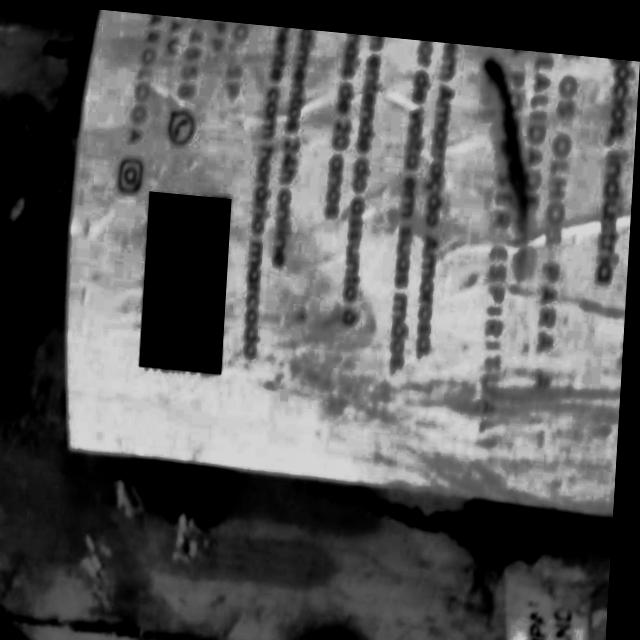qr_code: (143, 188, 232, 369)
